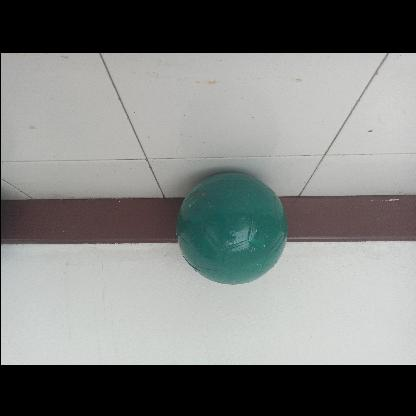green_ball: (172, 174, 288, 288)
